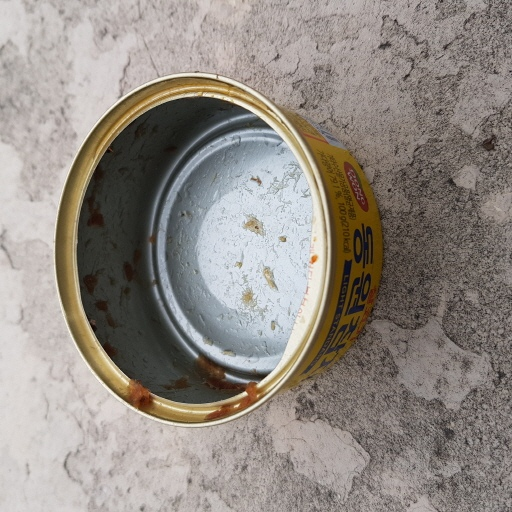Metal_1: (51, 72, 384, 435)
